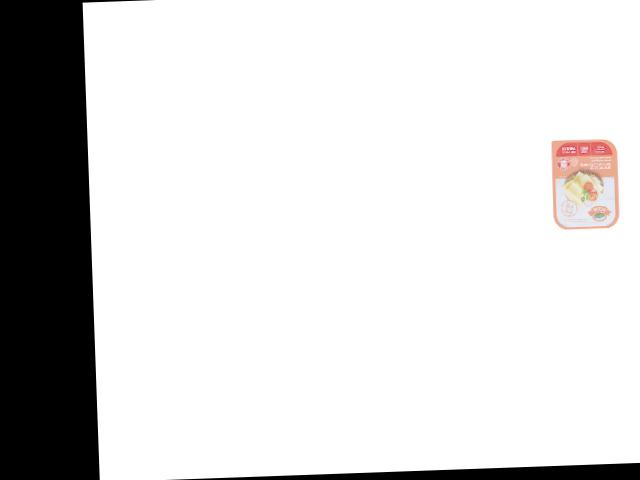cheese: (549, 132, 624, 232)
